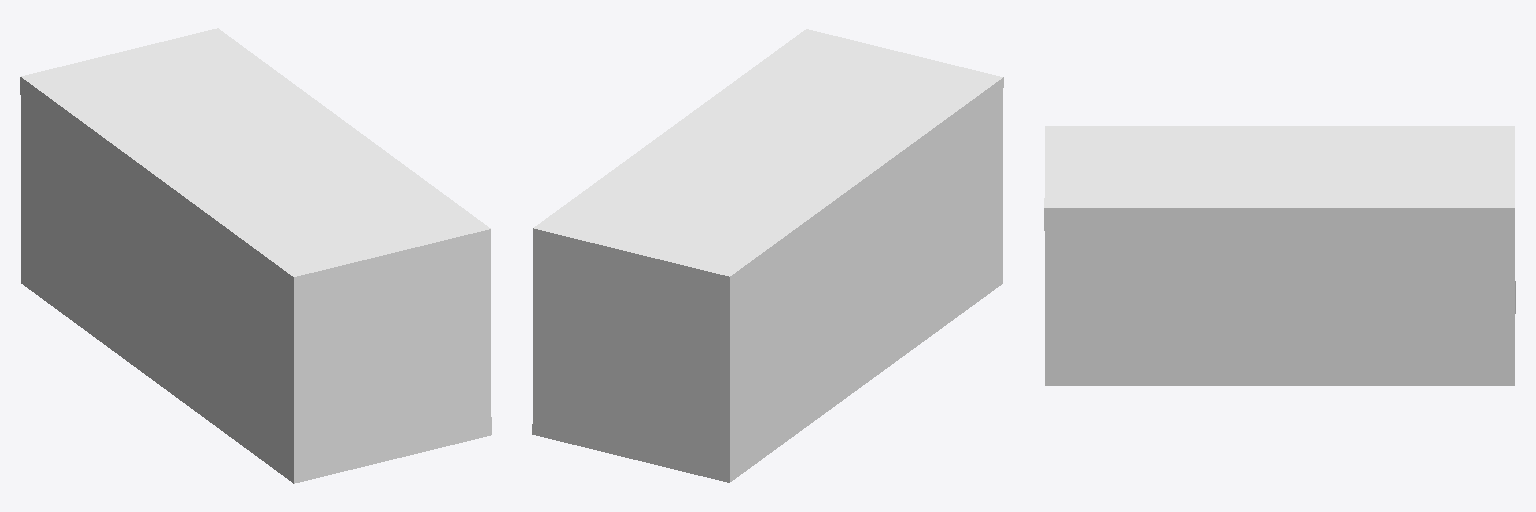
URDF robot description (mobile_manipulator):
<?xml version="1.0" encoding="utf-8"?>
<!-- =================================================================================== -->
<!-- |    This document was autogenerated by xacro from single_motor.xacro             | -->
<!-- |    EDITING THIS FILE BY HAND IS NOT RECOMMENDED                                 | -->
<!-- =================================================================================== -->
<robot name="mobile_manipulator">
  <!--0.5624 height to start-->
  <material name="white">
    <color rgba="1 1 1 1"/>
  </material>
  <!-- MACROS -->
  <!-- LINKS -->
  <!-- the trans parameter present here is to toggle distance of current object with respect to previous adjacent object i.e. its parent-->
  <!-- <link name="base_link">
    <xacro:LinkInertial trans="0 0 0.5624" rpy="0 0 0" />
    <xacro:LinkVisual trans="0 0 0.5624" rpy="0 0 0" />
    <xacro:LinkCollision trans="0 0 0.5624" rpy="0 0 0" />
  </link>

  <link name="shoulder_yaw_motor">
    <xacro:MXInertial trans="0 0 ${MXDepth/2}" rpy="0 0 0 "/>  
    <xacro:MXVisual trans="0 0 ${MXDepth/2}" rpy="0 0 0 "/>
    <xacro:MXCollision trans="0 0 ${MXDepth/2}" rpy="0 0 0"/>
  </link>

  <link name="shoulder_roll_motor">
  <xacro:MXInertial trans="0 ${MXLengthAxisLong} ${MXDepth/2 - MXWidth/2}" rpy="0 0 0 "/>  
  <xacro:MXVisual trans="0 ${MXLengthAxisLong} ${MXDepth/2 - MXWidth/2}" rpy="0 0 0 "/>
  <xacro:MXCollision trans="0 ${MXLengthAxisLong} ${MXDepth/2 - MXWidth/2}" rpy="0 0 0"/>
  </link>

  <link name="shoulder_pitch_motor">
    <xacro:MXInertial trans="0 ${MXLengthAxisLong} 0" rpy="0 0 0"/>  
    <xacro:MXVisual trans="0 ${MXLengthAxisLong} 0" rpy="0.0 0.0 0"/>
    <xacro:MXCollision trans="0 ${MXLengthAxisLong} 0" rpy="0 0 0"/>
  </link>

  <link name="shoulder_bracket">
    <xacro:BracketInertial trans="0 0 ${MXBracketLength}" rpy="0 0 0 "/>
    <xacro:BracketVisual trans="0 0 ${MXBracketLength}" rpy="0 0 0 "/>
    <xacro:BracketCollision trans="0 0 ${MXBracketLength}" rpy="0 0 0 "/>
  </link>  

  <link name="biscep">
    <xacro:LinkInertial trans="0 0 ${LinkLength/2}" rpy="0 0 0" />
    <xacro:LinkVisual trans="0 0 ${LinkLength/2}" rpy="0 0 0" />
    <xacro:LinkCollision trans="0 0 ${LinkLength/2}" rpy="0 0 0" />
  </link>  -->
  <link name="elbow_motor">
    <inertial>
      <origin rpy="0 0 0" xyz="0 0.0481 0"/>
      <mass value="0.140"/>
      <inertia ixx="0.000050799110" ixy="0.0" ixz="0.0" iyy="0.00002857215" iyz="0.00000051457" izz="0.000043394"/>
    </inertial>
    <visual>
      <origin rpy="0 0 0" xyz="0 0.0481 0"/>
      <geometry>
        <mesh filename="package://mobile_manipulator/meshes/dynamixel_x64series.stl" scale="0.001 0.001 0.001"/>
      </geometry>
      <material name="white"/>
    </visual>
    <collision>
      <origin rpy="0 0 0" xyz="0 0.0481 0"/>
      <geometry>
        <box size="0.041 0.0402 0.0611"/>
      </geometry>
    </collision>
  </link>
  <link name="elbow_bracket">
    <inertial>
      <origin rpy="0 0 0" xyz="0 0 0.036"/>
      <mass value="0.00712"/>
      <inertia ixx="0.00000174511" ixy="0.0" ixz="0.0" iyy="0.00000379922" iyz="0.0" izz="0.00000357521"/>
    </inertial>
    <visual>
      <origin rpy="0 0 0" xyz="0 0 0.036"/>
      <geometry>
        <mesh filename="package://mobile_manipulator/meshes/FR05-H101K.stl" scale="0.001 0.001 0.001"/>
      </geometry>
      <material name="white"/>
    </visual>
    <collision>
      <origin rpy="0 0 0" xyz="0 0 0.036"/>
      <geometry>
        <mesh filename="package://mobile_manipulator/meshes/FR05-H101K.stl" scale="0.001 0.001 0.001"/>
      </geometry>
    </collision>
  </link>
  <link name="forearm">
    <inertial>
      <origin rpy="0 0 0" xyz="0 0 0.048"/>
      <mass value="0.00048"/>
      <inertia ixx="0.000050799110" ixy="0.0" ixz="0.0" iyy="0.00002857215" iyz="0.00000051457" izz="0.000043394"/>
    </inertial>
    <visual>
      <origin rpy="0 0 0" xyz="0 0 0.048"/>
      <geometry>
        <box size="0.04 0.04 0.096"/>
      </geometry>
      <material name="white"/>
    </visual>
    <collision>
      <origin rpy="0 0 0" xyz="0 0 0.048"/>
      <geometry>
        <box size="0.04 0.04 0.096"/>
      </geometry>
    </collision>
  </link>
  <link name="wrist_bracket">
    <inertial>
      <origin rpy="0 0 0" xyz="0 0.052 0"/>
      <mass value="0.00712"/>
      <inertia ixx="0.00000174511" ixy="0.0" ixz="0.0" iyy="0.00000379922" iyz="0.0" izz="0.00000357521"/>
    </inertial>
    <visual>
      <origin rpy="0 0 0" xyz="0 0.052 0"/>
      <geometry>
        <mesh filename="package://mobile_manipulator/meshes/F4.stl" scale="0.001 0.001 0.001"/>
      </geometry>
      <material name="white"/>
    </visual>
    <collision>
      <origin rpy="0 0 0" xyz="0 0.052 0"/>
      <geometry>
        <mesh filename="package://mobile_manipulator/meshes/F4.stl" scale="0.001 0.001 0.001"/>
      </geometry>
    </collision>
  </link>
  <joint name="elbow_pitch" type="revolute">
    <origin rpy="0 1.57 1.57" xyz="0 0.0481 0"/>
    <parent link="elbow_motor"/>
    <child link="elbow_bracket"/>
    <axis xyz="1 0 0"/>
    <limit effort="30" lower="-1.57" upper="1.57" velocity="1.0"/>
  </joint>
  <joint name="forearm_start" type="fixed">
    <origin rpy="0 0 3.14" xyz="0 0 0.036"/>
    <parent link="elbow_bracket"/>
    <child link="forearm"/>
  </joint>
  <joint name="forearm_end" type="fixed">
    <origin rpy="1.57 0 1.57" xyz="0 0 0.096"/>
    <parent link="forearm"/>
    <child link="wrist_bracket"/>
  </joint>
</robot>

--- Facts derived from the render (not from the file) ---
Views: 3 orthographic renders of the robot side by side, from view 1: azimuth 30°, elevation 25°; view 2: azimuth 150°, elevation 25°; view 3: azimuth 270°, elevation 25°.
Model mobile_manipulator with 4 links and 3 joints (1 revolute, 2 fixed), rooted at elbow_motor, posed every joint at zero.
Links seen in each view (by area): view 1: forearm; view 2: forearm; view 3: forearm.
Link boxes in pixels (x1,y1,x2,y2): forearm: [20, 28, 491, 483]; forearm: [532, 29, 1003, 482]; forearm: [1044, 126, 1515, 385].
Bounding box of the posed robot: 0.0401 × 0.0961 × 0.0401 m (x, y, z).
0 mesh visuals loaded from 3 distinct referenced files (none loaded); not drawn: 3 (reference not matched to a file when rendering).